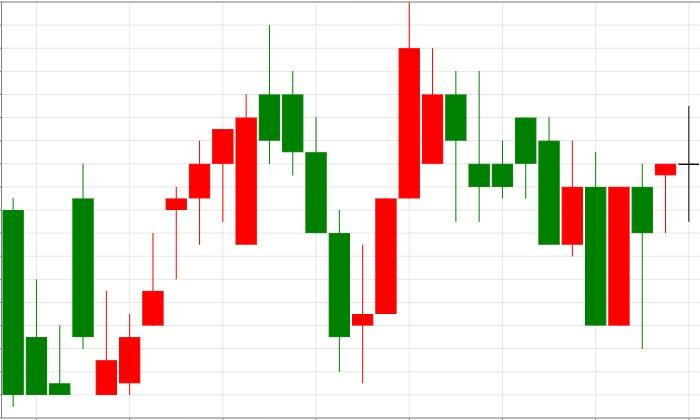hanging_man_fall: (95, 129, 234, 395)
three_white_soldiers_rise: (259, 2, 420, 384)
